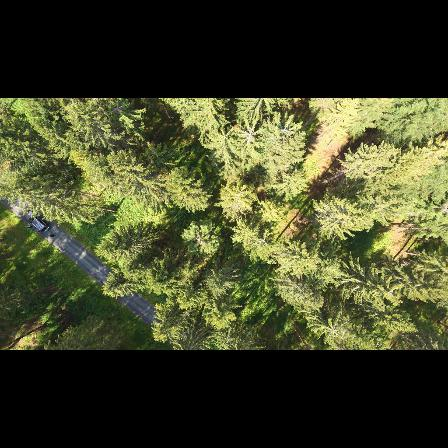Sick: (271, 116, 298, 145), (236, 121, 264, 147)
